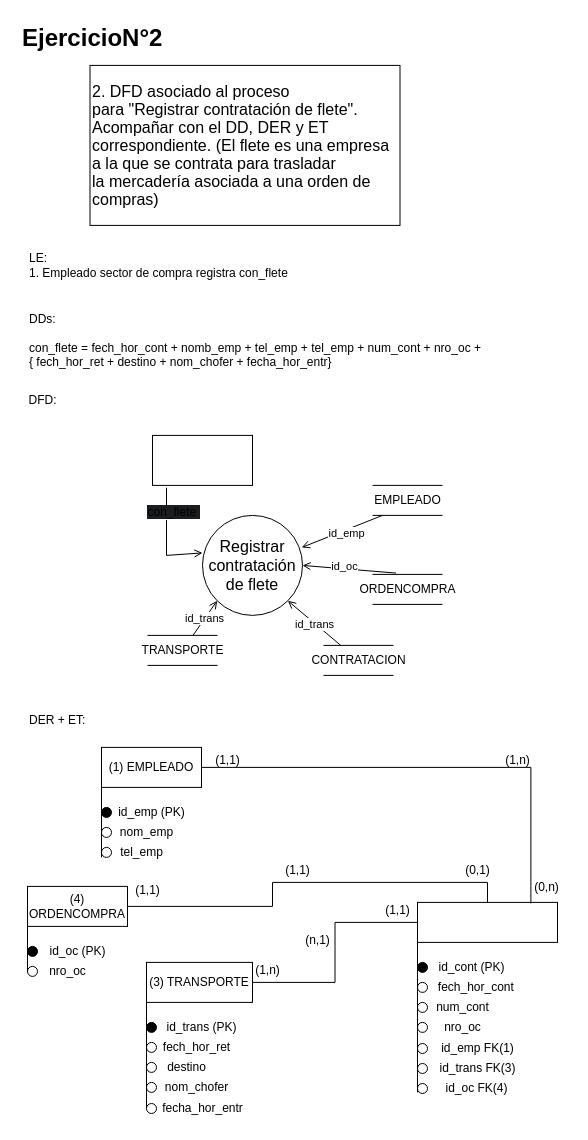
Some shapes in this 588 by 1140 pixel diagram are drawn without their labels. Each missing label, with the centre of its shape:
(2) CONTRATACION: the point at 487,921
Empleado sector de compras: the point at 202,459
